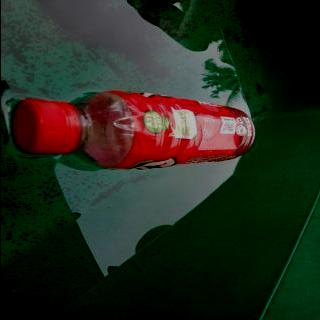bottle: (11, 90, 256, 170)
